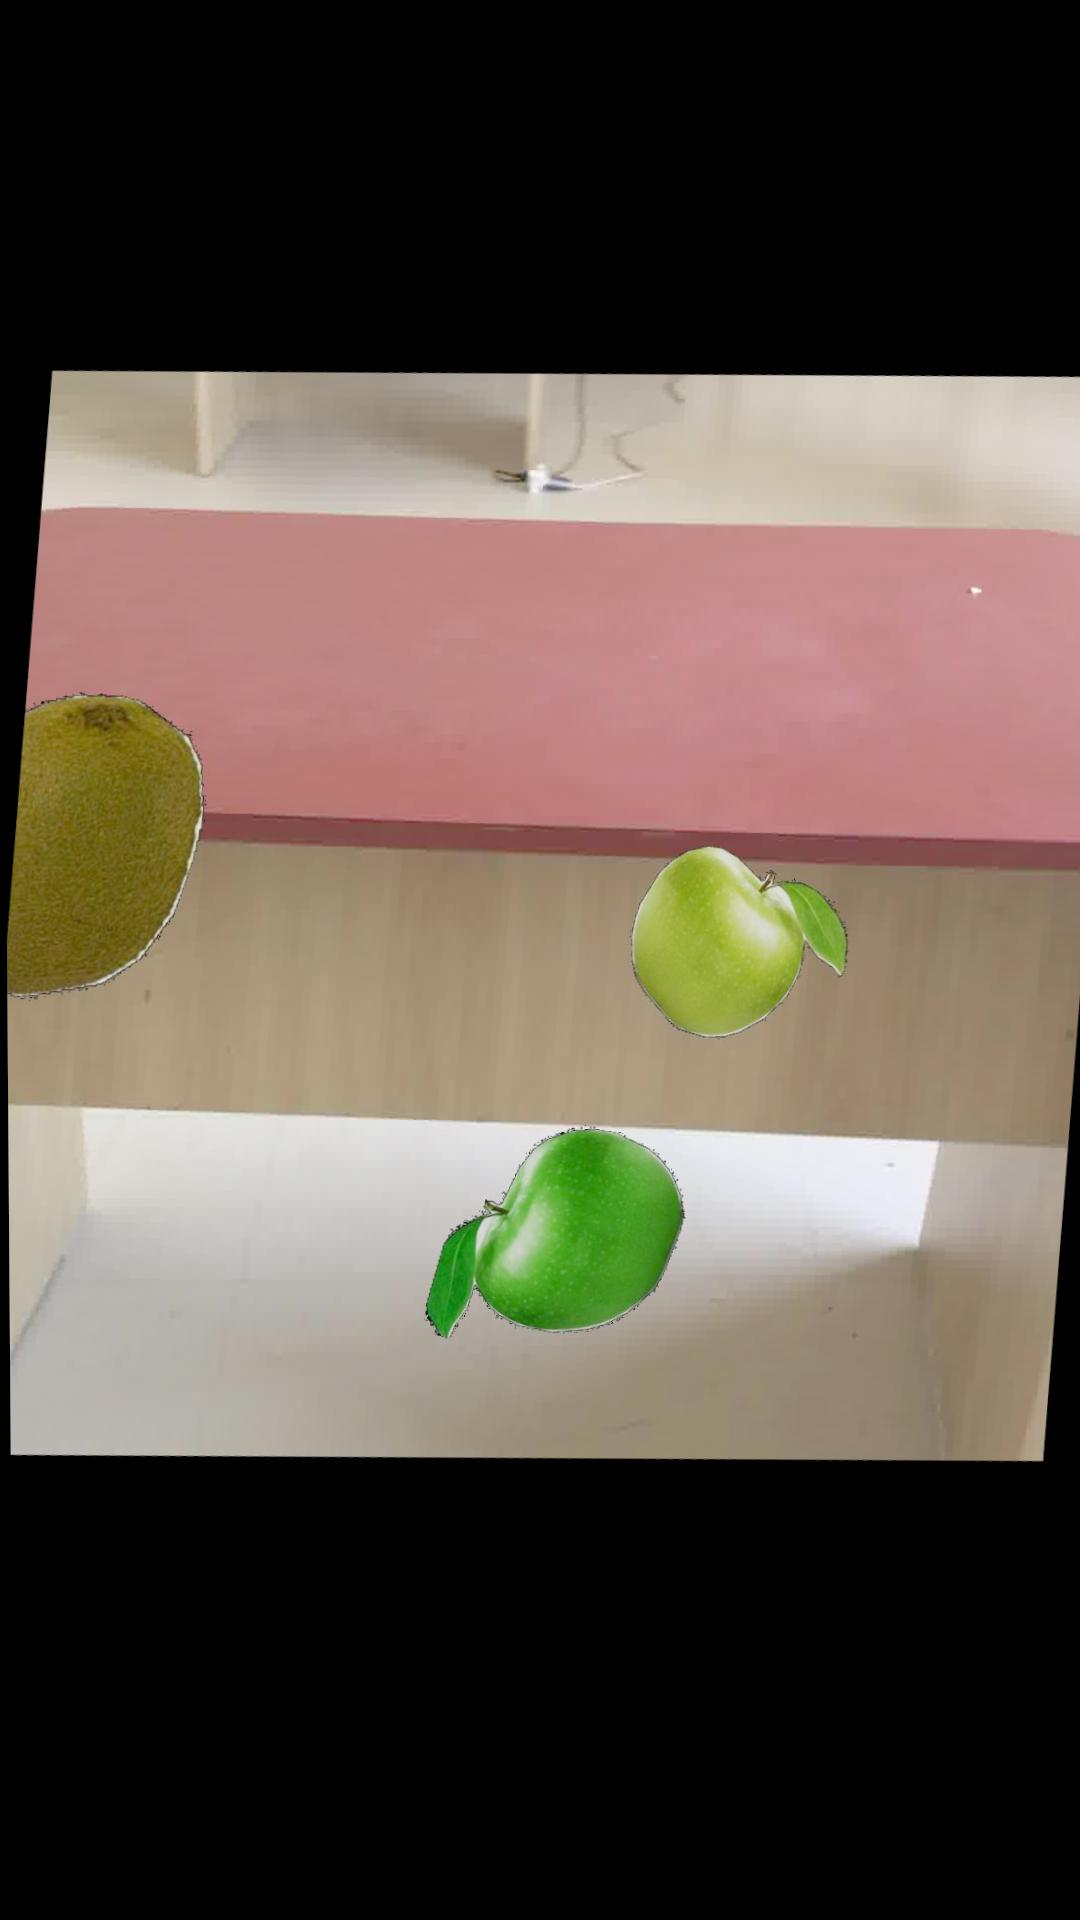green apple: (423, 1139, 683, 1348), (629, 860, 847, 1051)
kiwi: (5, 695, 203, 998)
